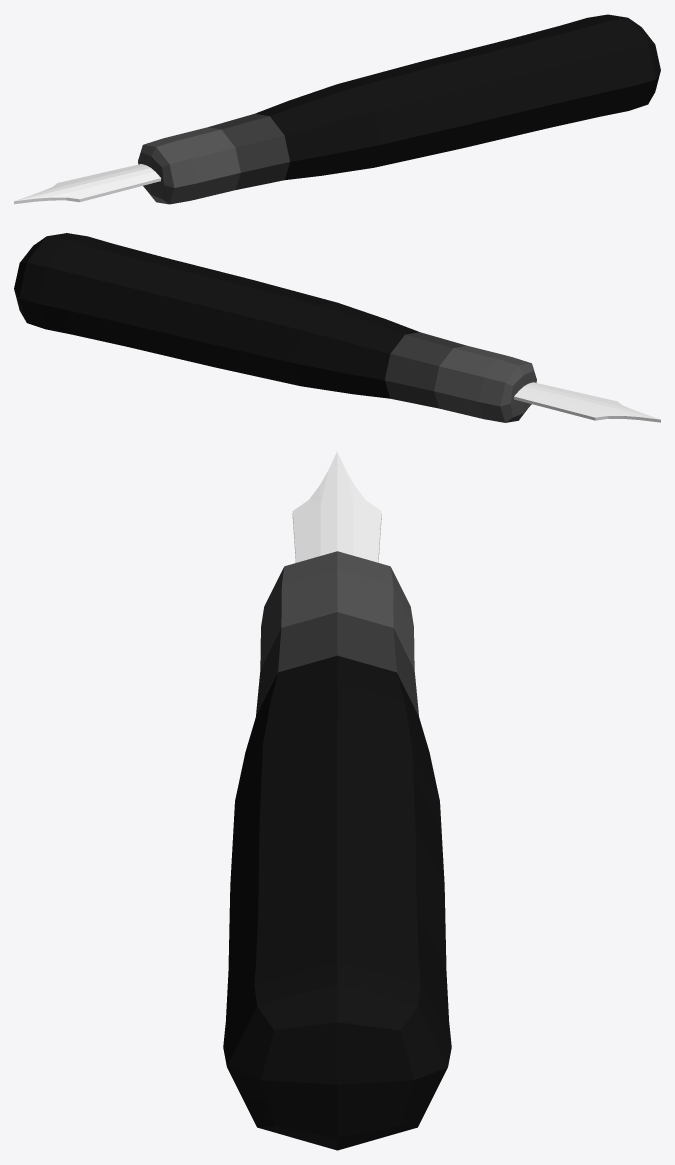
The model's file is FountainPenModel.fbx.
3 views of the same model, one above another, from view 1: azimuth 30°, elevation 25°; view 2: azimuth 150°, elevation 25°; view 3: azimuth 270°, elevation 25° (orthographic). The views are drawn at different scales.
Visible parts, largest first — view 1: FountainPenModel; view 2: FountainPenModel; view 3: FountainPenModel.
Part boxes in pixels (box(x1,y1,x2,y2)): FountainPenModel: box(14, 14, 660, 204); FountainPenModel: box(14, 233, 660, 422); FountainPenModel: box(223, 451, 451, 1150).
Bounding box in the file's own units: 42.05 × 5.48 × 6.58.
